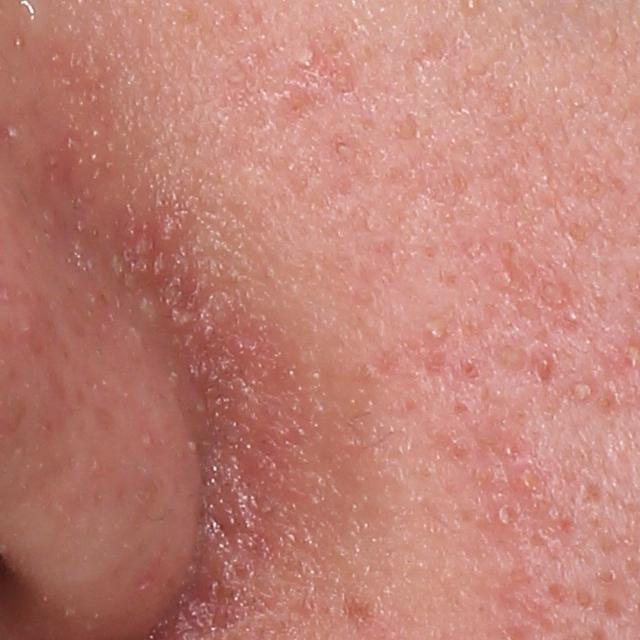comedo: (563, 303, 583, 328)
papule: (534, 352, 556, 376)
pustule: (564, 373, 604, 405), (488, 497, 515, 532), (420, 318, 447, 344)
